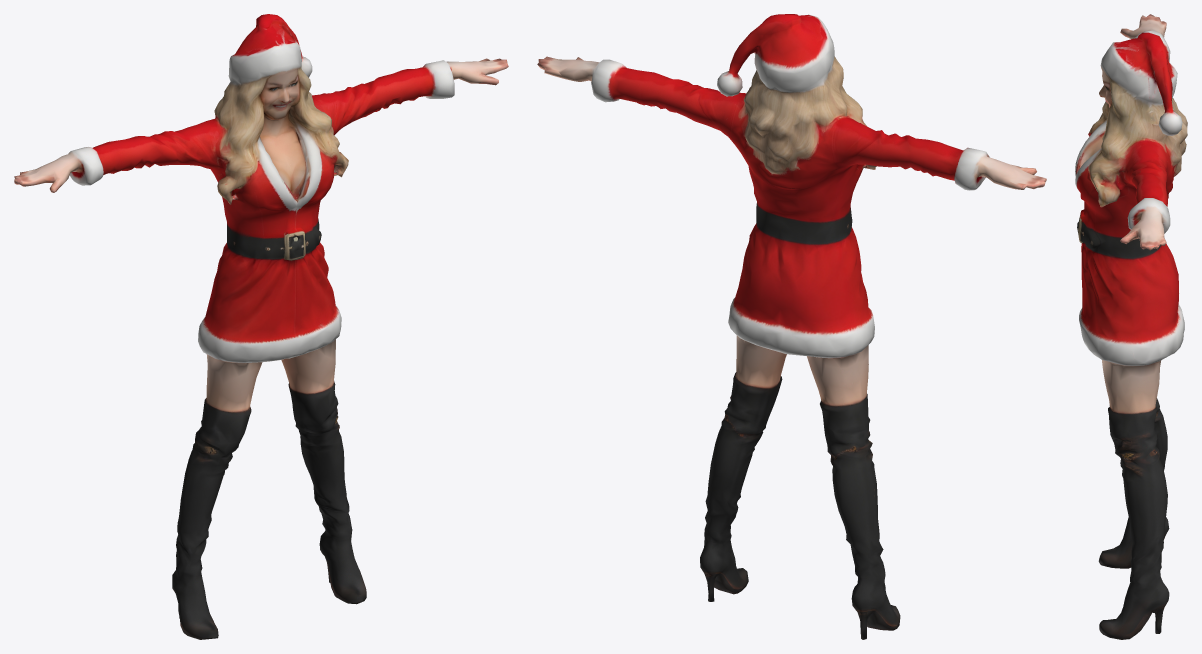
The model's file is santa_style_celebration.glb.
3 views of the same model, side by side, from view 1: azimuth 30°, elevation 25°; view 2: azimuth 150°, elevation 25°; view 3: azimuth 270°, elevation 25° (orthographic). The views are drawn at different scales.
Parts seen in each view (by area): view 1: Object_4; view 2: Object_4; view 3: Object_4.
Part boxes in pixels (x1=…): Object_4: x1=14, y1=14, x2=508, y2=639; Object_4: x1=537, y1=14, x2=1046, y2=639; Object_4: x1=1075, y1=14, x2=1187, y2=639.
Bounding box in the file's own units: 1.68 × 1.91 × 0.3449.
1 material, 1 textured.
